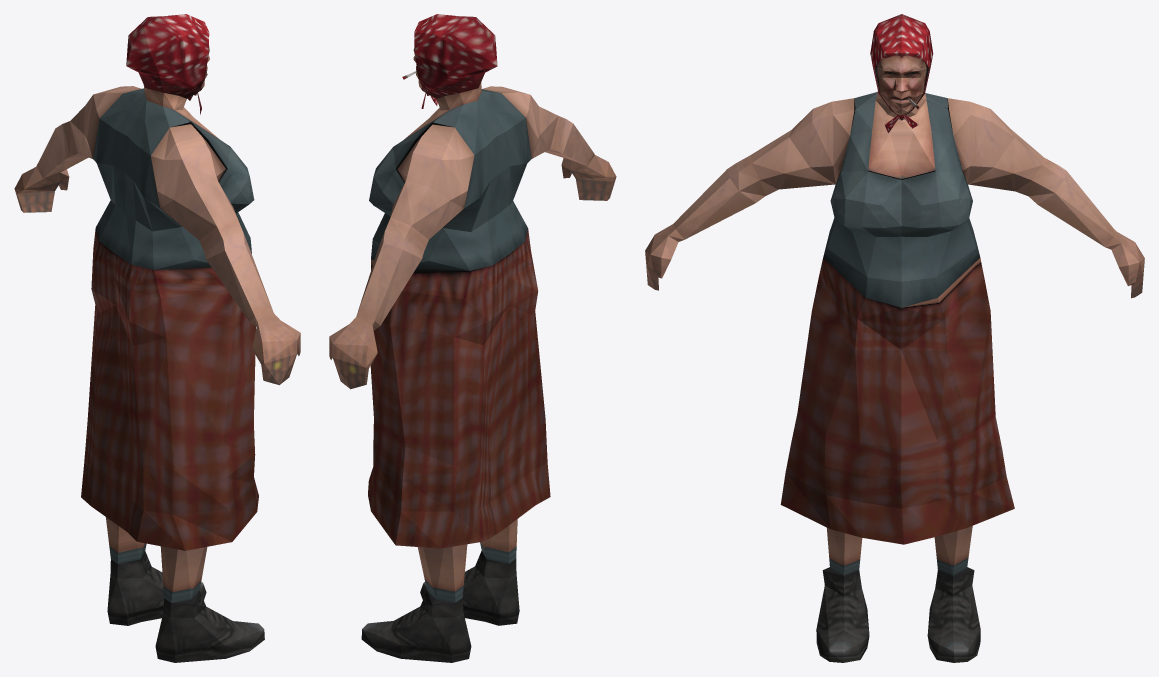
Rendered from cwfohb.obj.
3 renders of one model, left to right at view 1: azimuth 30°, elevation 25°; view 2: azimuth 150°, elevation 25°; view 3: azimuth 270°, elevation 25°, orthographic.
Visible parts, largest first — view 1: _Pelvis; view 2: _Pelvis; view 3: _Pelvis.
Boxes of the visible parts, x1,y1,x2,y2 form: _Pelvis: [14, 14, 300, 662]; _Pelvis: [329, 14, 616, 662]; _Pelvis: [645, 14, 1144, 662].
Bounding box in the file's own units: 0.4209 × 1.67 × 1.23.
1 material, 1 textured.
